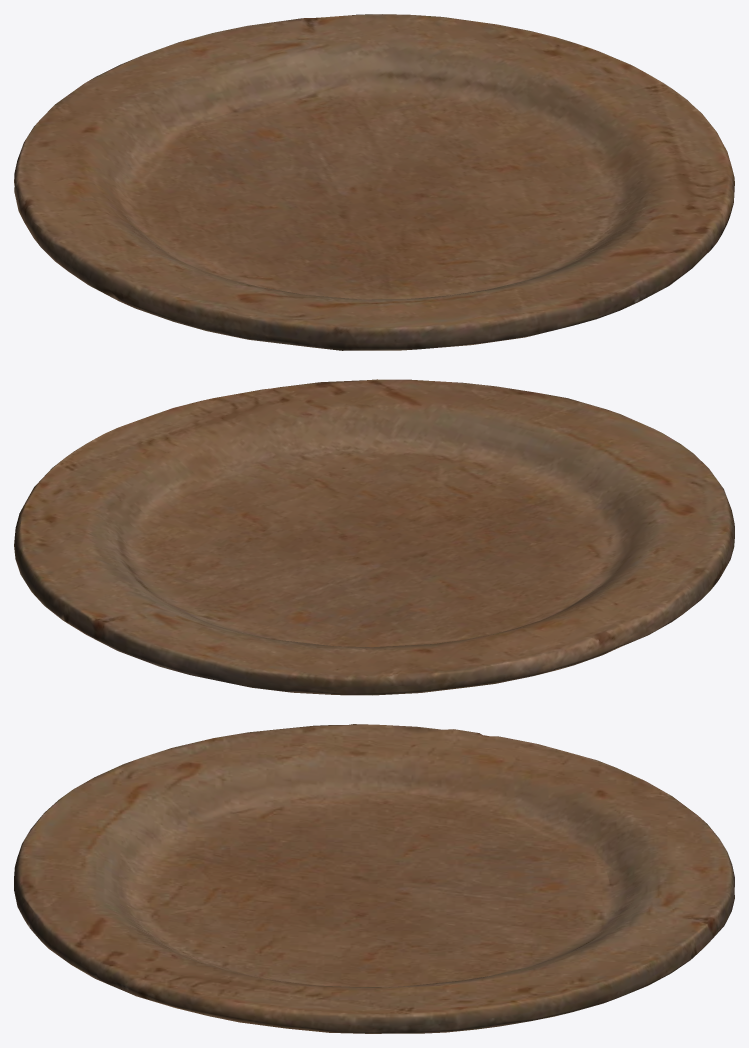
Rendered from plate_wood.glb.
3 views of the same model, one above another, from view 1: azimuth 30°, elevation 25°; view 2: azimuth 150°, elevation 25°; view 3: azimuth 270°, elevation 25° (orthographic). The views are drawn at different scales.
Visible parts, largest first — view 1: xixsfgd_LOD0_TIER2_000; view 2: xixsfgd_LOD0_TIER2_000; view 3: xixsfgd_LOD0_TIER2_000.
Boxes of the visible parts, left/top/right/bottom form: xixsfgd_LOD0_TIER2_000: left=14, top=14, right=734, bottom=350; xixsfgd_LOD0_TIER2_000: left=14, top=379, right=734, bottom=695; xixsfgd_LOD0_TIER2_000: left=14, top=724, right=734, bottom=1033.
Size of the model in its own units: 0.1914 by 0.0181 by 0.1976.
Materials: 1 (1 with a texture image).
